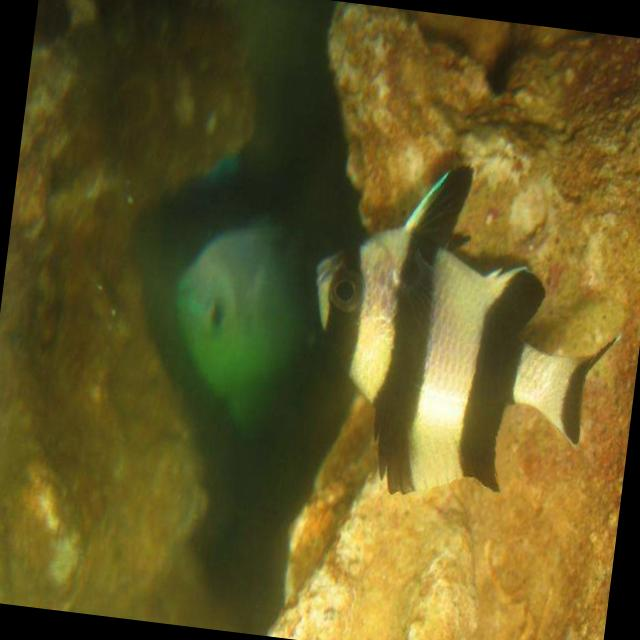ThreeStripedDamselfish: (288, 144, 636, 514)
